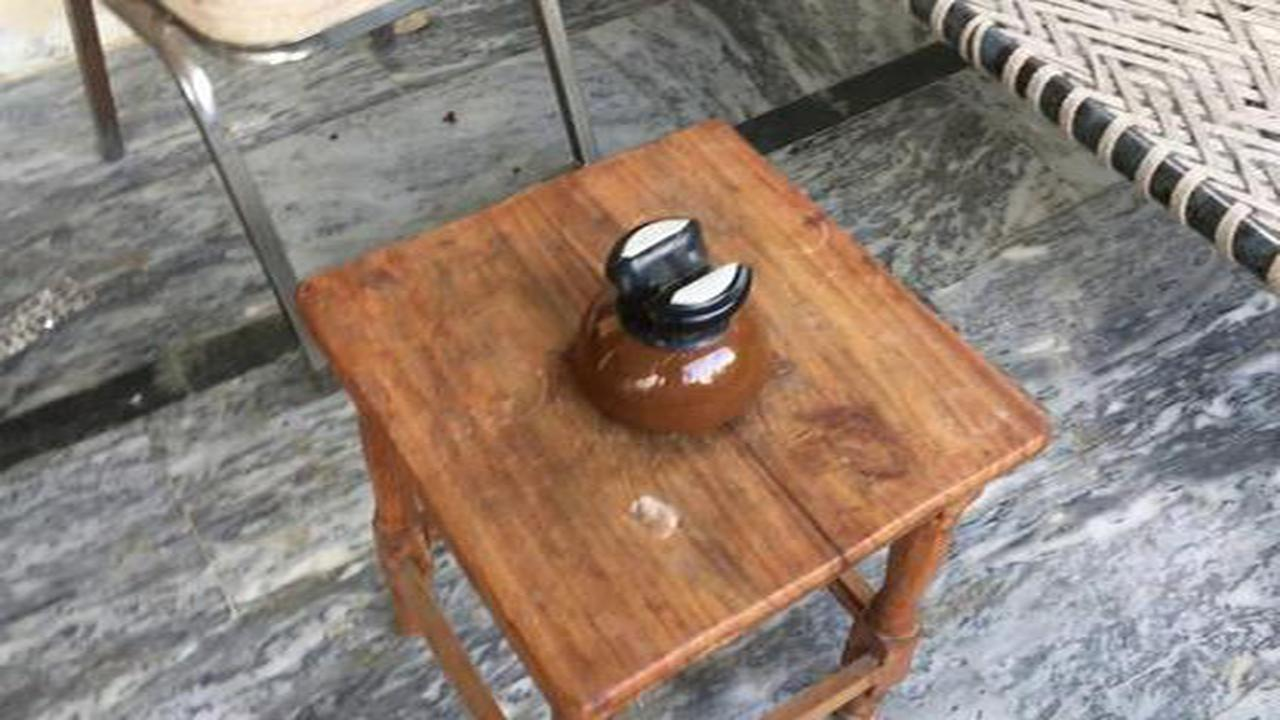insulator_pin: (545, 203, 801, 440)
